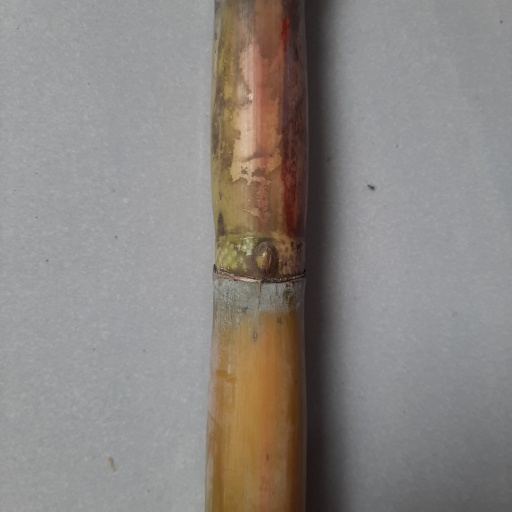Bud: (252, 241, 277, 276)
